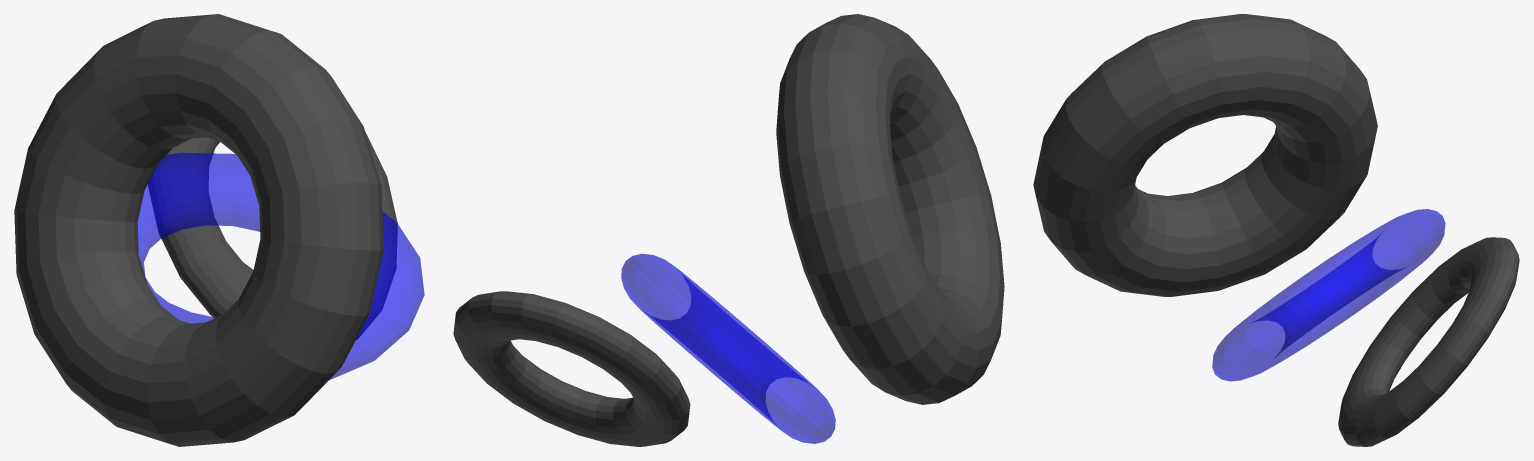
The model's file is effect_lambert_transparency_float.dae.
The picture shows the model from 3 angles, left to right: view 1: azimuth 30°, elevation 25°; view 2: azimuth 150°, elevation 25°; view 3: azimuth 270°, elevation 25°; orthographic projection. The views are drawn at different scales.
Parts seen in each view (by area): view 1: pTorus3, pTorus1, pTorus2; view 2: pTorus3, pTorus2, pTorus1; view 3: pTorus3, pTorus2, pTorus1.
Part boxes in pixels (x1,y1,x2,y2): pTorus3: (14,14,383,446); pTorus1: (137,152,424,379); pTorus2: (148,132,397,339); pTorus3: (776,14,1004,404); pTorus2: (453,291,690,446); pTorus1: (621,254,835,443); pTorus3: (1033,14,1377,296); pTorus2: (1338,237,1519,446); pTorus1: (1212,209,1445,381).
Size of the model in its own units: 308 by 283 by 357.
